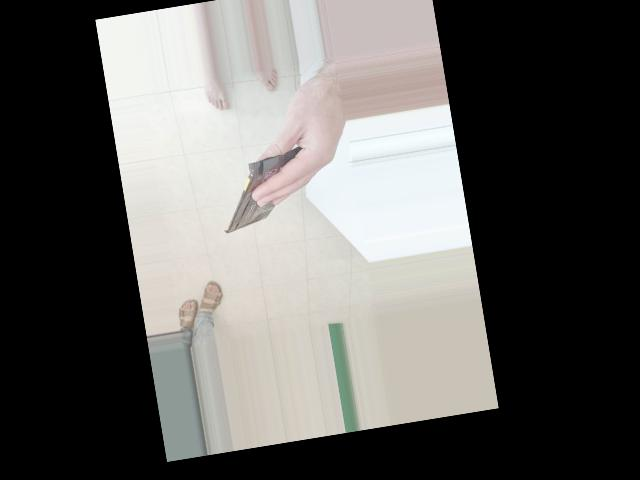chocolate: (210, 136, 328, 239)
